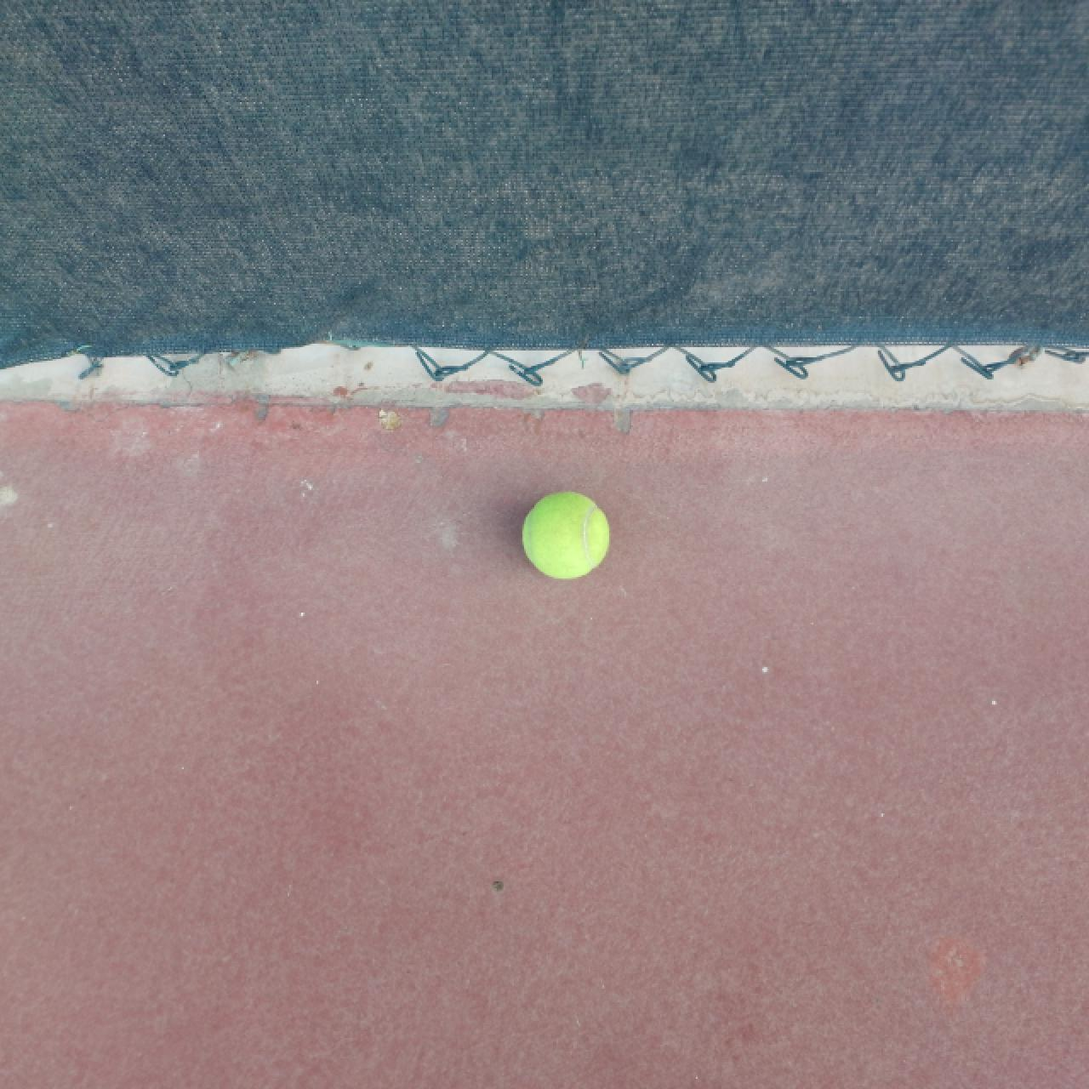tennis-ball: (521, 490, 611, 580)
